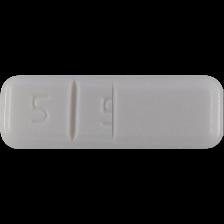64380-743: (0, 0, 224, 224)
